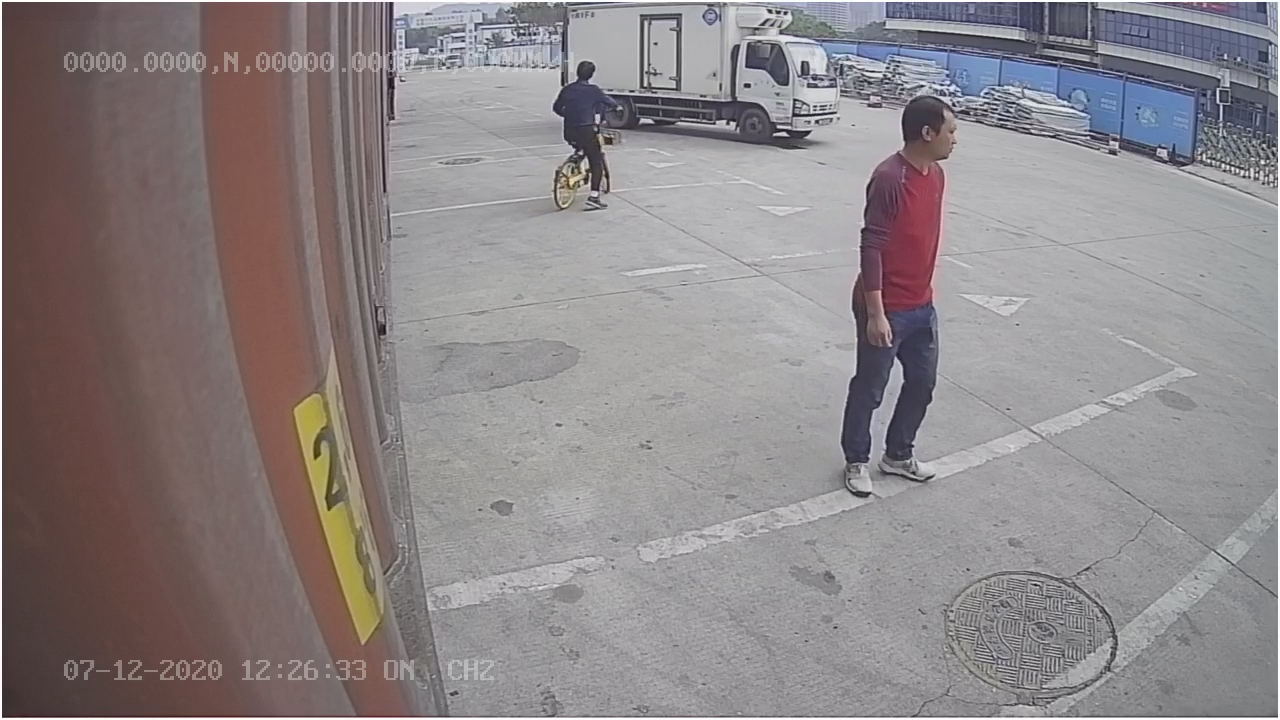person: (833, 91, 962, 501)
